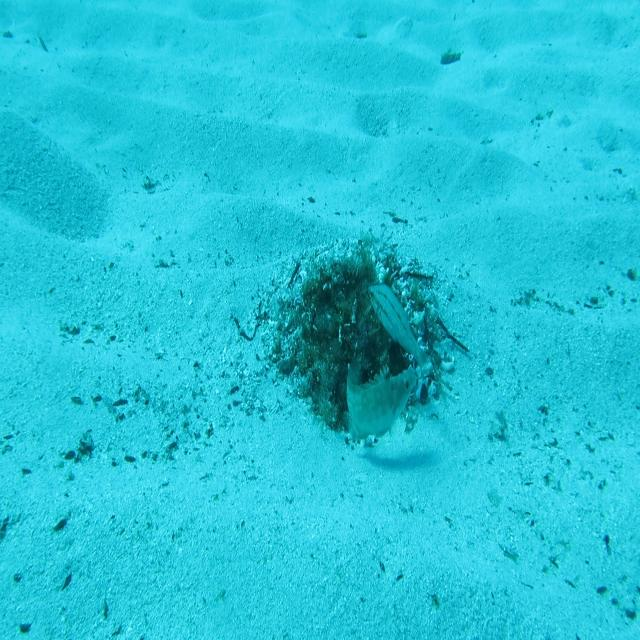BEND: (339, 355, 417, 443)
core_nest: (332, 282, 379, 327)
female: (367, 280, 432, 380)
nest: (257, 233, 468, 469)
vegetation: (441, 46, 464, 66)
